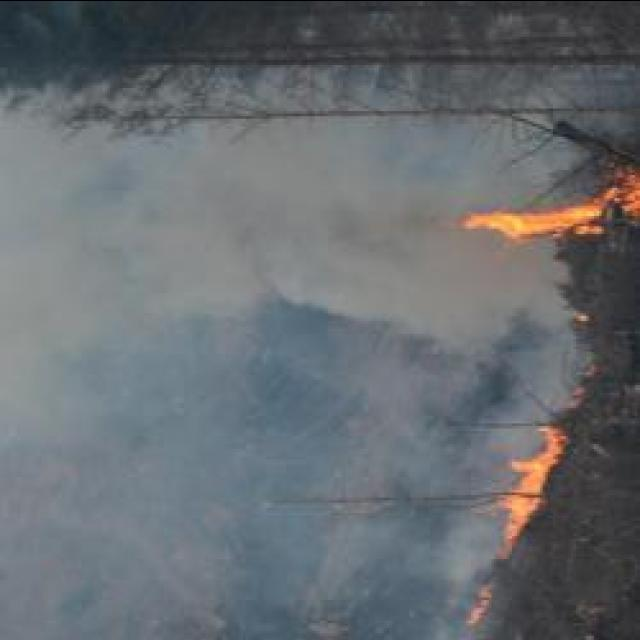fire: (492, 426, 568, 545), (462, 200, 602, 243)
smoke: (6, 136, 260, 444), (264, 247, 526, 364), (281, 166, 447, 264), (396, 520, 484, 582)
